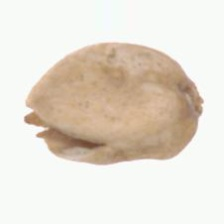L1: (23, 98, 84, 158), (179, 72, 205, 126)
L2: (23, 41, 205, 167)
